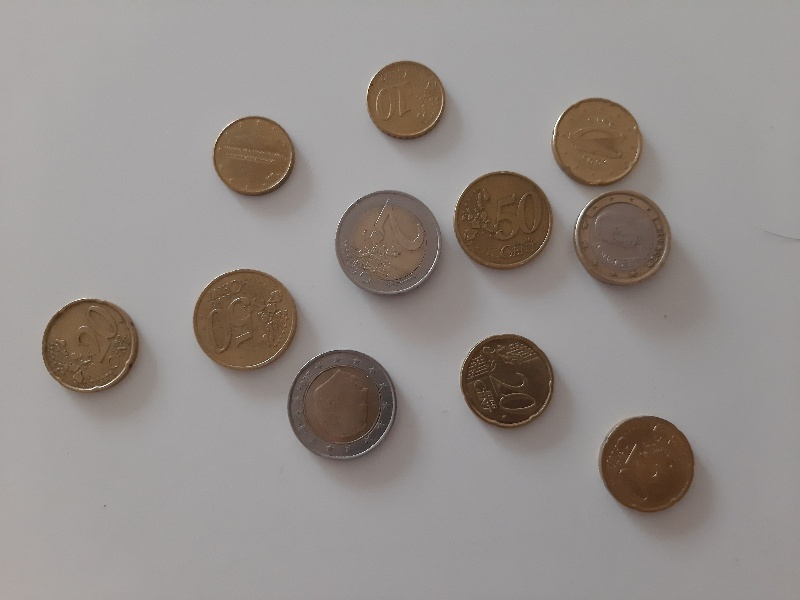1 euro: (570, 189, 674, 290)
10 cent: (363, 58, 450, 141), (211, 115, 295, 197)
2 euro: (286, 348, 400, 464), (331, 188, 446, 298)
20 cent: (597, 414, 697, 516), (40, 296, 140, 394), (458, 332, 558, 430), (550, 96, 643, 187)
50 cent: (190, 267, 300, 374), (450, 168, 556, 273)
